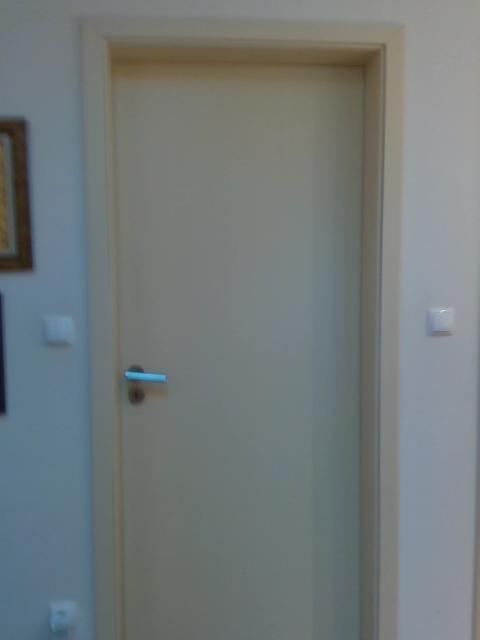closed_door: (79, 20, 398, 639)
